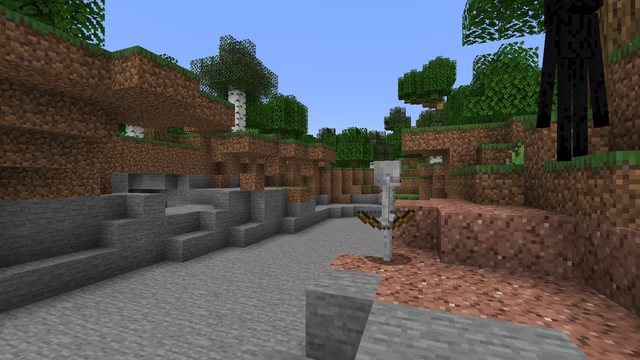endermens: (541, 0, 607, 158)
squelettes: (371, 160, 403, 263)
